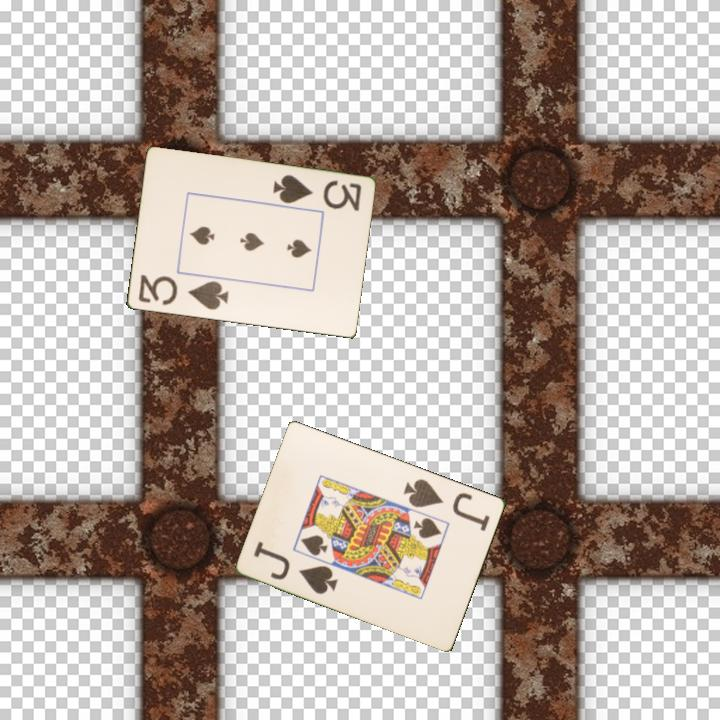3s: (269, 171, 364, 214), (134, 271, 231, 313)
Js: (250, 537, 342, 597), (400, 475, 493, 534)
